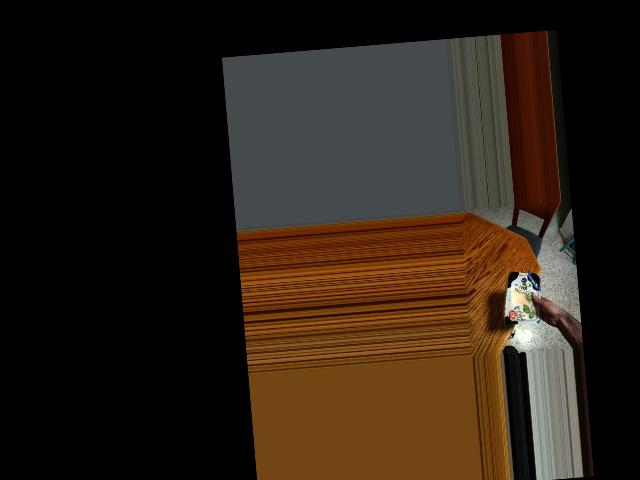cheese: (500, 269, 549, 326)
